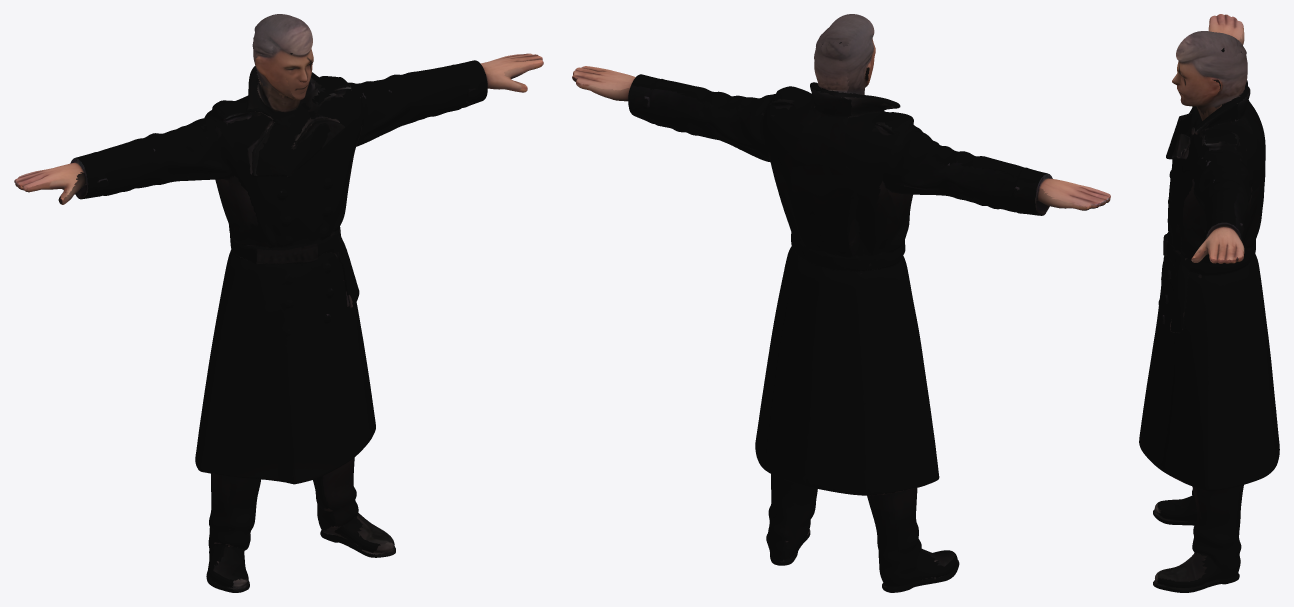
The model's file is executionerdeath-v2.glb.
The picture shows the model from 3 angles, left to right: view 1: azimuth 30°, elevation 25°; view 2: azimuth 150°, elevation 25°; view 3: azimuth 270°, elevation 25°; orthographic projection. The views are drawn at different scales.
Visible parts, largest first — view 1: model; view 2: model; view 3: model.
Part boxes in pixels (x1,y1,x2,y2): model: [14, 14, 543, 592]; model: [572, 14, 1110, 592]; model: [1139, 14, 1279, 592].
Bounding box in the file's own units: 1.9 × 1.87 × 0.4582.
1 material, 1 textured.
